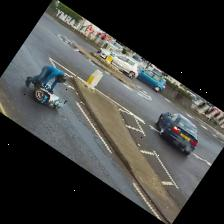person: (25, 66, 66, 93)
